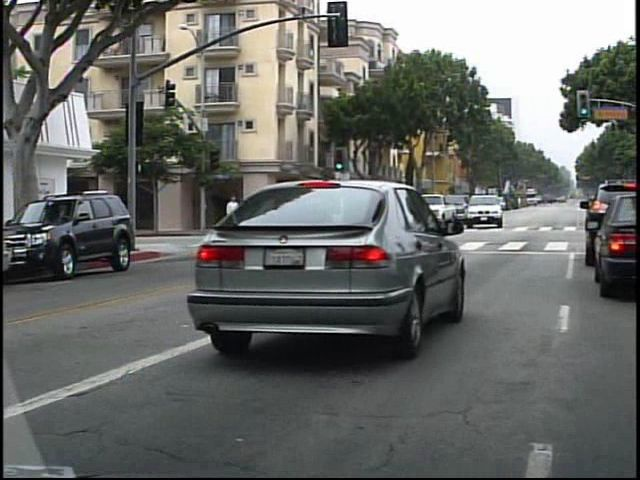person: (222, 191, 240, 239), (241, 194, 261, 235)
